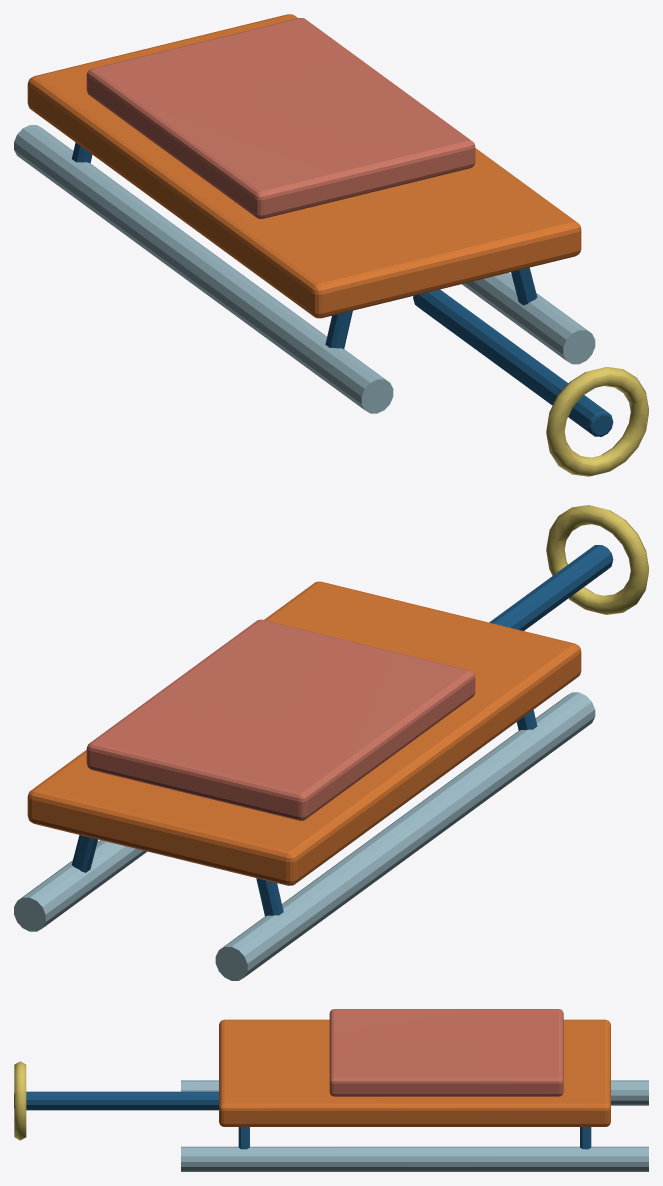
Rendered from glacier_rescue_sled_v1.glb.
The picture shows the model from 3 angles, top to bottom: view 1: azimuth 30°, elevation 25°; view 2: azimuth 150°, elevation 25°; view 3: azimuth 270°, elevation 25°; orthographic projection. The views are drawn at different scales.
Parts seen in each view (by area): view 1: glacier_rescue_sled_v1; view 2: glacier_rescue_sled_v1; view 3: glacier_rescue_sled_v1.
Part boxes in pixels (<box>): glacier_rescue_sled_v1: <box>14,14,648,476</box>; glacier_rescue_sled_v1: <box>14,505,648,980</box>; glacier_rescue_sled_v1: <box>14,1009,648,1171</box>.
Size of the model in its own units: 1.65 by 0.82 by 5.02.
